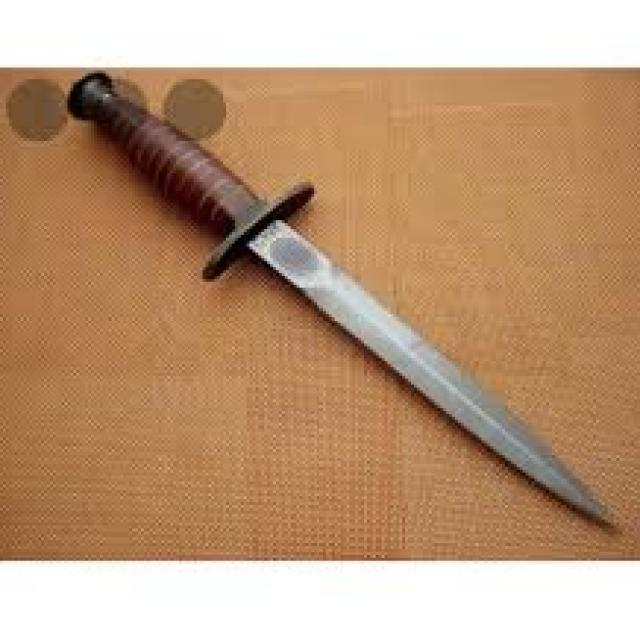Gun: (68, 65, 604, 533)
